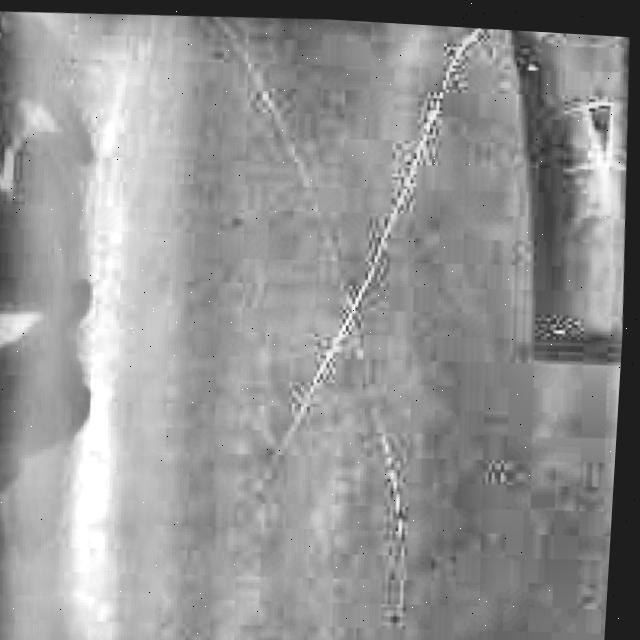door_scratch: (288, 159, 404, 396), (344, 405, 435, 563), (412, 25, 482, 165)
